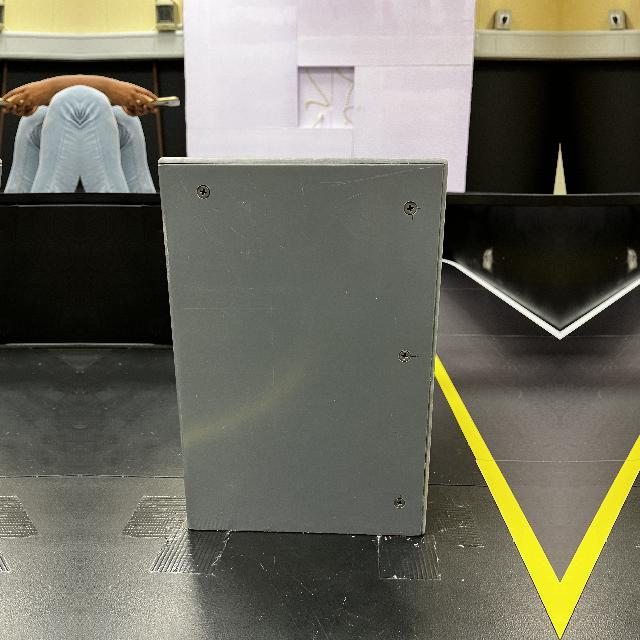obstacle: (154, 157, 452, 539), (0, 157, 6, 539)
